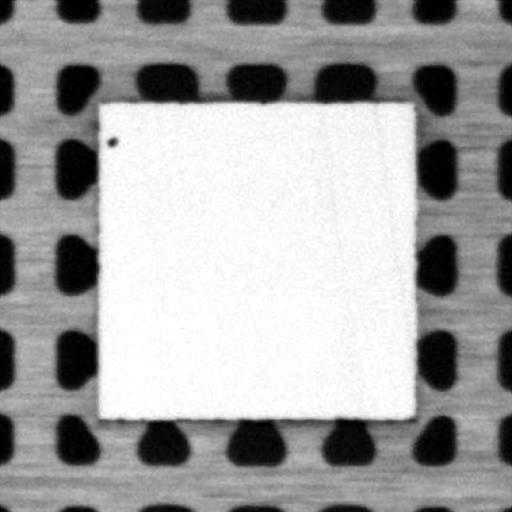DIE_INK: (104, 135, 119, 150)
